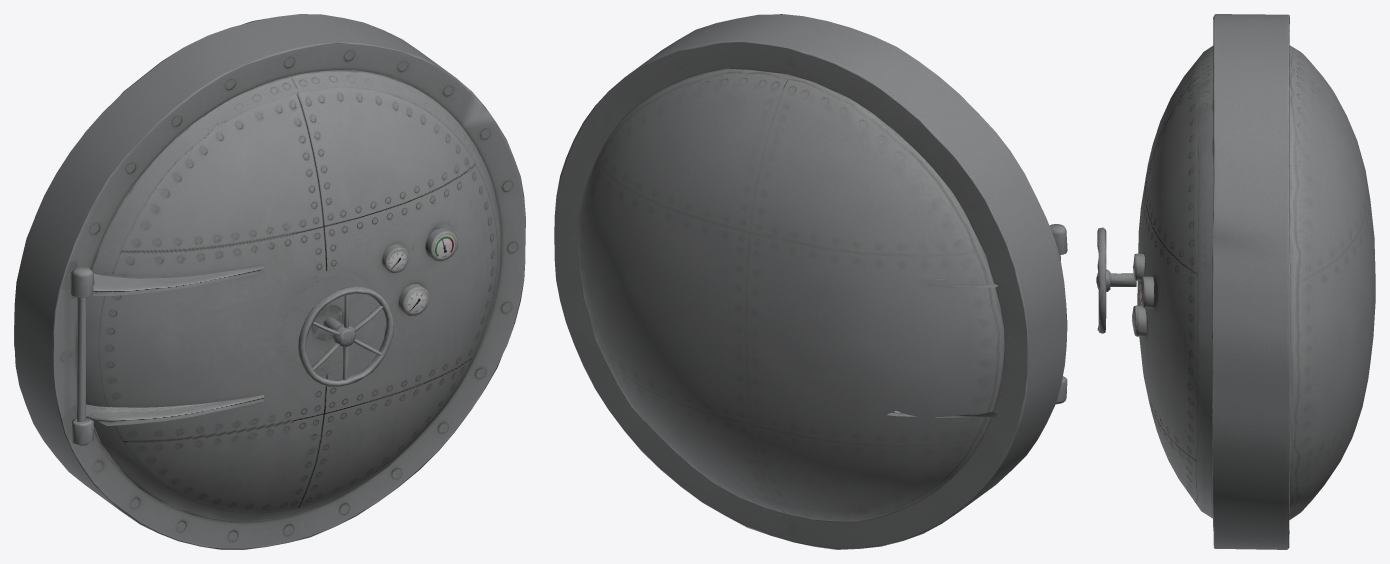
File: Meshy_AI_submarine_bulkhead_0903105925_texture.glb
3 renders of one model, left to right at view 1: azimuth 30°, elevation 25°; view 2: azimuth 150°, elevation 25°; view 3: azimuth 270°, elevation 25°, orthographic.
Parts seen in each view (by area): view 1: mesh_node; view 2: mesh_node; view 3: mesh_node.
Boxes of the visible parts, x1,y1,x2,y2 form: mesh_node: (14, 14, 525, 549); mesh_node: (554, 14, 1067, 549); mesh_node: (1096, 14, 1375, 549).
Bounding box in the file's own units: 1 × 1 × 0.5215.
1 material, 1 textured.
